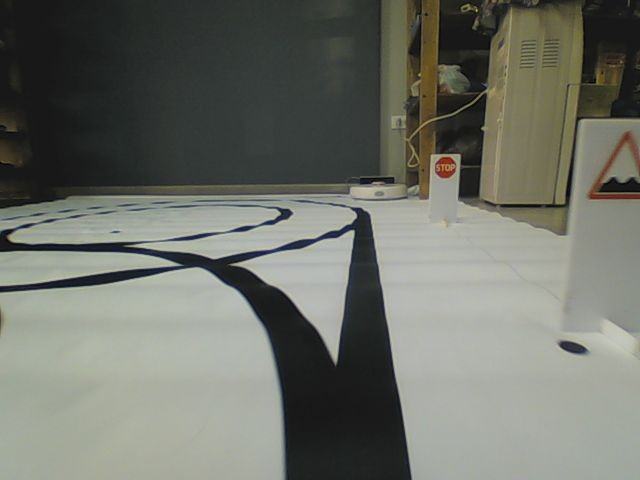Stop: (434, 155, 458, 179)
